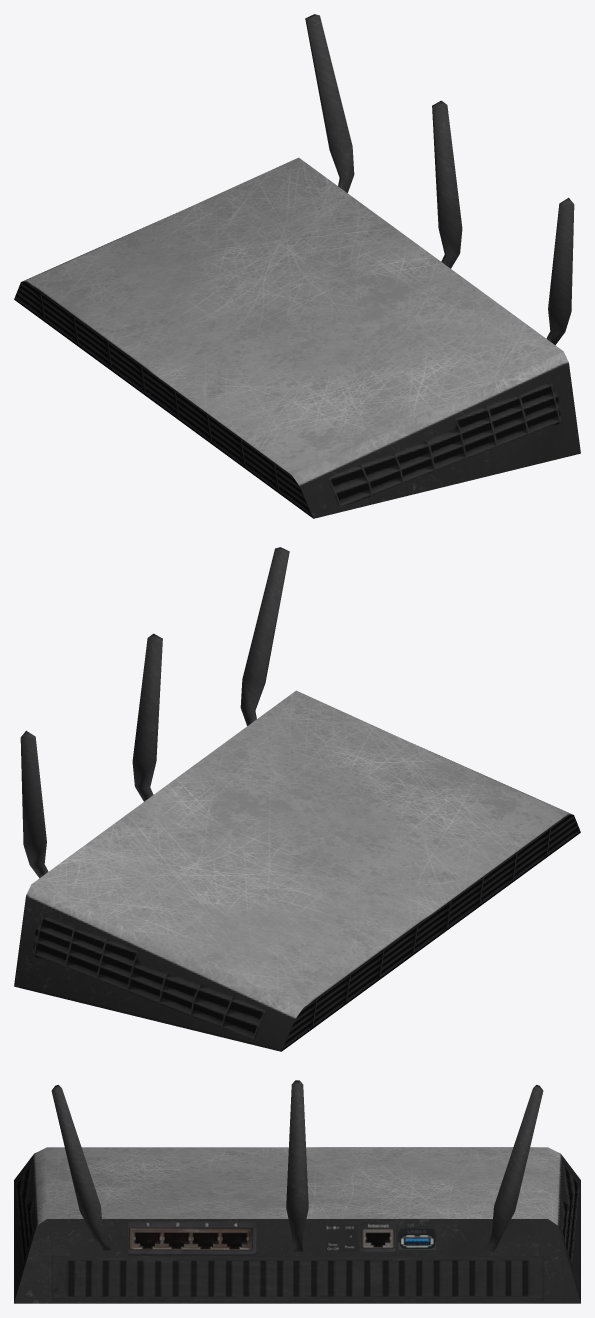
Rendered from Modom Router.FBX.
3 views of the same model, one above another, from view 1: azimuth 30°, elevation 25°; view 2: azimuth 150°, elevation 25°; view 3: azimuth 270°, elevation 25° (orthographic). The views are drawn at different scales.
Visible parts, largest first — view 1: Modom01; view 2: Modom01; view 3: Modom01.
Boxes of the visible parts, x1,y1,x2,y2 form: Modom01: [14, 14, 580, 518]; Modom01: [14, 547, 580, 1051]; Modom01: [14, 1080, 580, 1303].
Size of the model in its own units: 6.44 by 5.03 by 11.22.
1 material, 1 textured.
